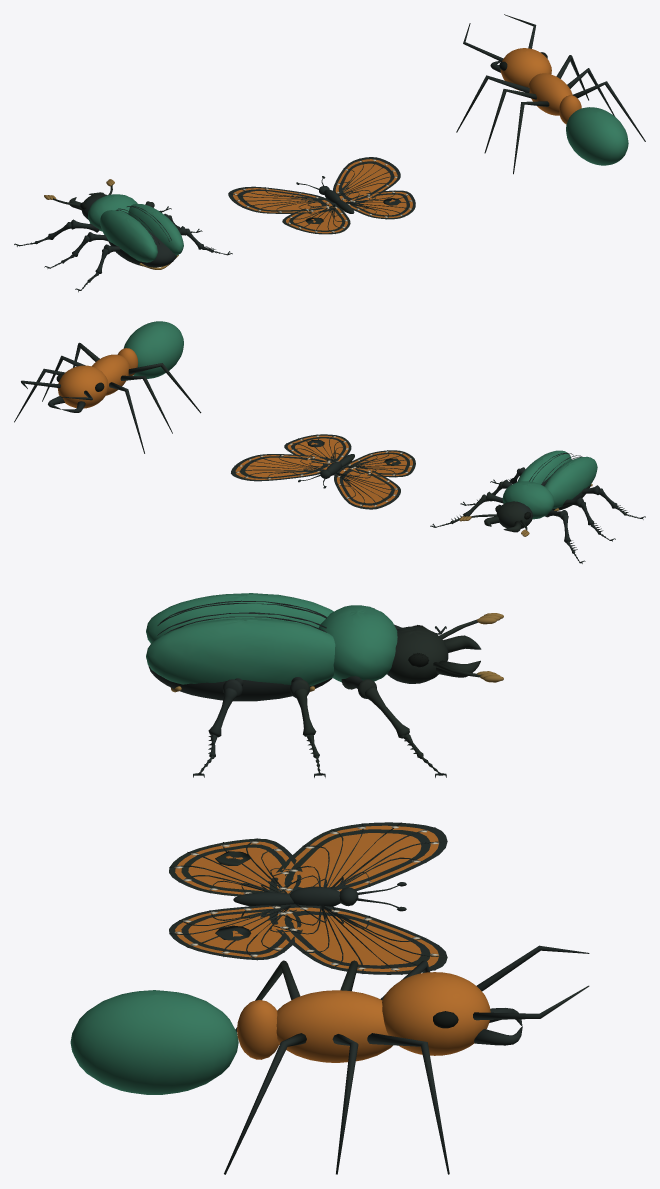
The picture shows the model from 3 angles, top to bottom: view 1: azimuth 30°, elevation 25°; view 2: azimuth 150°, elevation 25°; view 3: azimuth 270°, elevation 25°; orthographic projection. The views are drawn at different scales.
Parts seen in each view (by area): view 1: B04_SPEC_Chitin_export; view 2: B04_SPEC_Chitin_export; view 3: B04_SPEC_Chitin_export.
Boxes of the visible parts, left/top/right/bottom form: B04_SPEC_Chitin_export: left=14, top=14, right=645, bottom=292; B04_SPEC_Chitin_export: left=14, top=321, right=645, bottom=563; B04_SPEC_Chitin_export: left=70, top=593, right=589, bottom=1174.
Bounding box in the file's own units: 2.55 × 0.3339 × 1.01.
